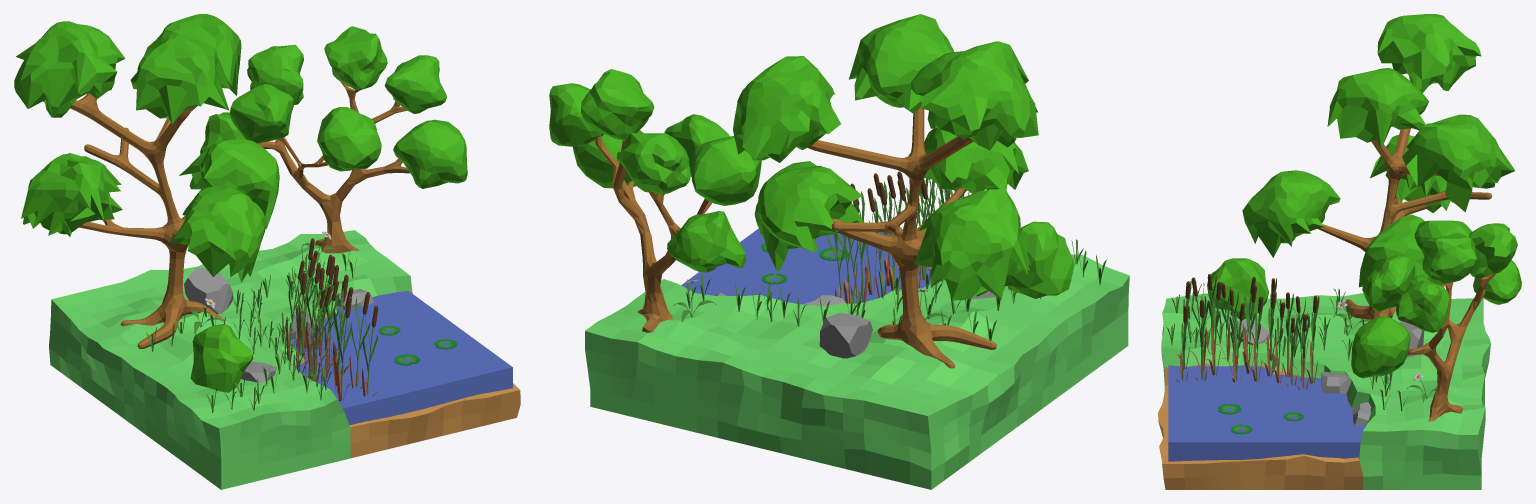
Rendered from LakeShore.fbx.
The picture shows the model from 3 angles, left to right: view 1: azimuth 30°, elevation 25°; view 2: azimuth 150°, elevation 25°; view 3: azimuth 270°, elevation 25°; orthographic projection. The views are drawn at different scales.
Visible parts, largest first — view 1: Ground; view 2: Ground; view 3: Ground.
Boxes of the visible parts, bbox=[...] form: Ground: bbox=[14, 14, 520, 489]; Ground: bbox=[549, 14, 1129, 489]; Ground: bbox=[1158, 14, 1521, 489].
Size of the model in its own units: 2823 by 2342 by 2302.
